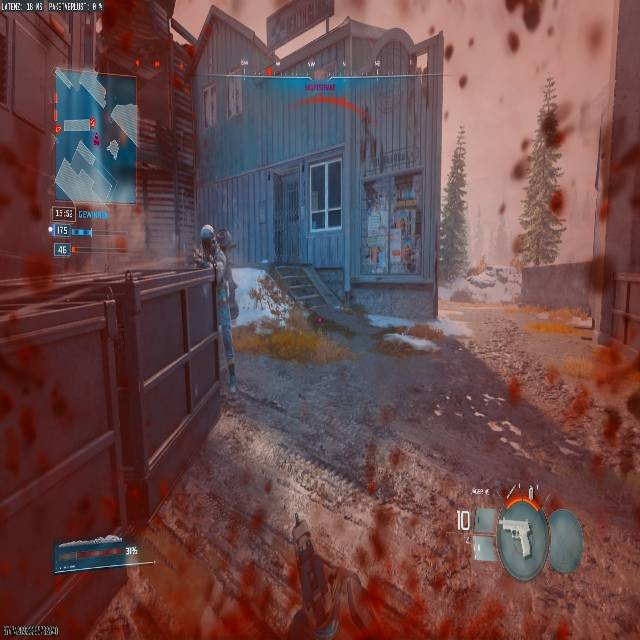head: (199, 225, 214, 244)
player: (192, 225, 239, 337)
